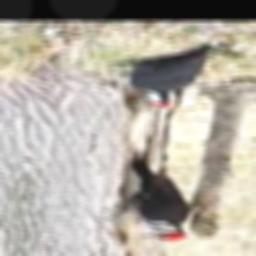Woodpecker: (98, 149, 191, 241), (106, 50, 207, 108)
